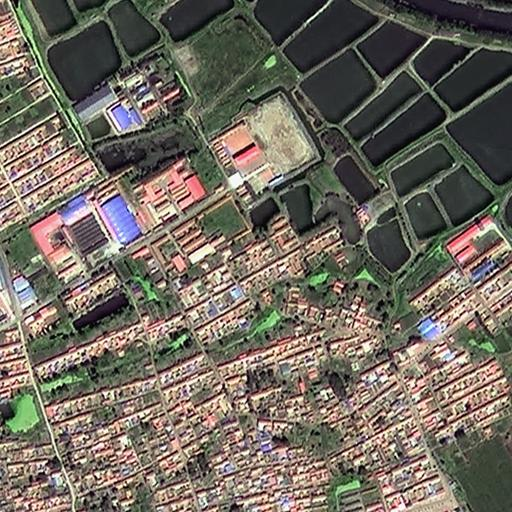school: (209, 89, 323, 202)
